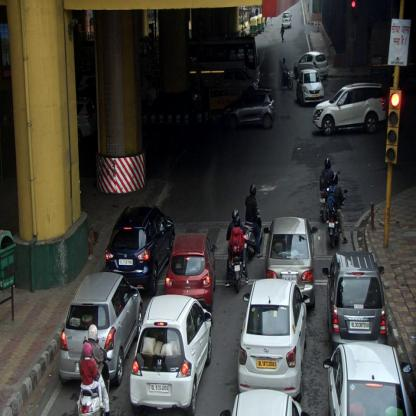bus: (191, 35, 260, 93)
car: (128, 292, 214, 415), (60, 270, 144, 388), (239, 278, 310, 402), (324, 342, 416, 414), (104, 203, 175, 292), (322, 251, 388, 343), (264, 217, 318, 309), (315, 80, 385, 140), (165, 232, 217, 306), (222, 88, 275, 133), (294, 70, 324, 106), (294, 51, 328, 78), (282, 12, 293, 29)
motorcycle: (76, 323, 110, 415), (225, 209, 250, 294), (326, 172, 349, 250), (241, 183, 261, 258), (319, 157, 333, 220), (275, 58, 292, 91)
